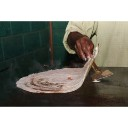dosa: (14, 67, 99, 93)
